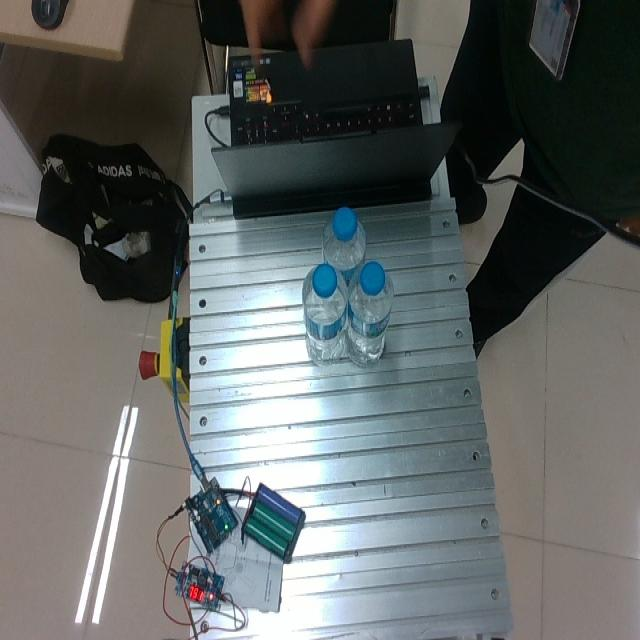lavie: (302, 263, 350, 365), (346, 262, 393, 366), (321, 207, 366, 290)
